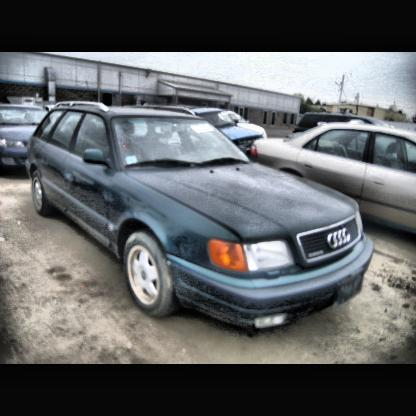Audi 100 Wagon 1994: (28, 103, 373, 333)
